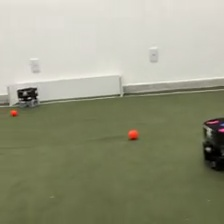ball: (127, 127, 139, 141), (10, 107, 18, 117)
goal: (7, 71, 125, 109)
robot: (199, 113, 224, 175), (15, 86, 42, 109)
